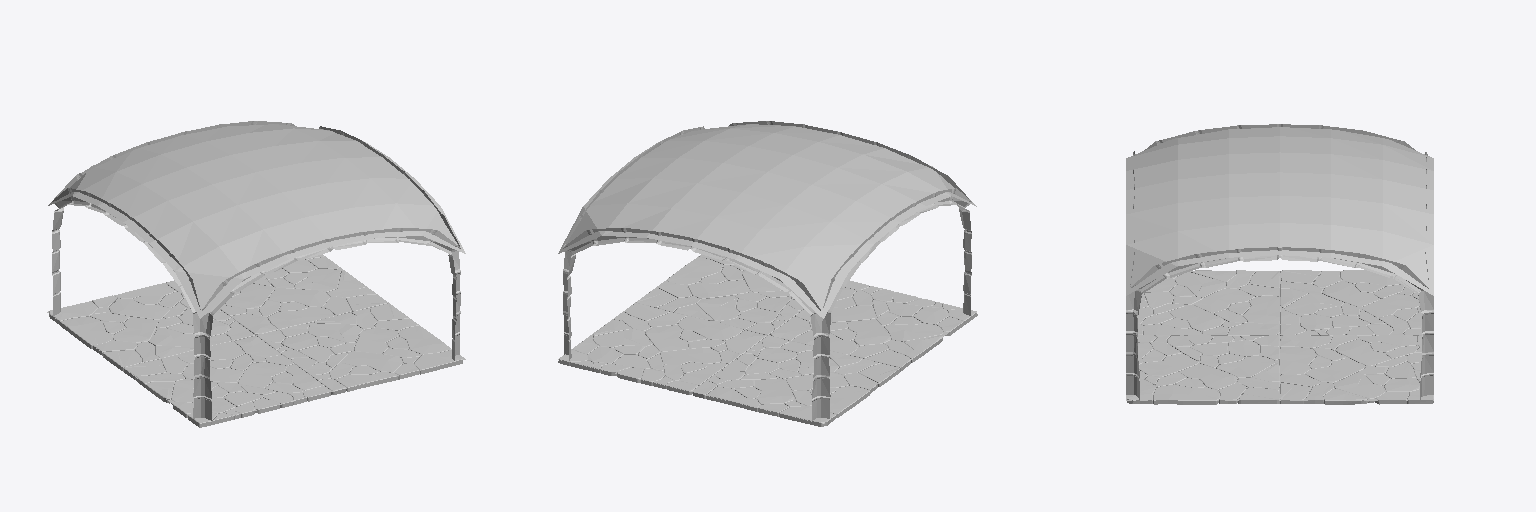
The model's file is Dungeon_Big.obj.
3 views of the same model, side by side, from view 1: azimuth 30°, elevation 25°; view 2: azimuth 150°, elevation 25°; view 3: azimuth 270°, elevation 25° (orthographic).
Visible parts, largest first — view 1: Dungeon_Big; view 2: Dungeon_Big; view 3: Dungeon_Big.
Part boxes in pixels (x1,y1,x2,y2): Dungeon_Big: (47,121,465,427); Dungeon_Big: (558,121,977,426); Dungeon_Big: (1126,124,1433,404).
Bounding box in the file's own units: 8.03 × 4.82 × 8.01.